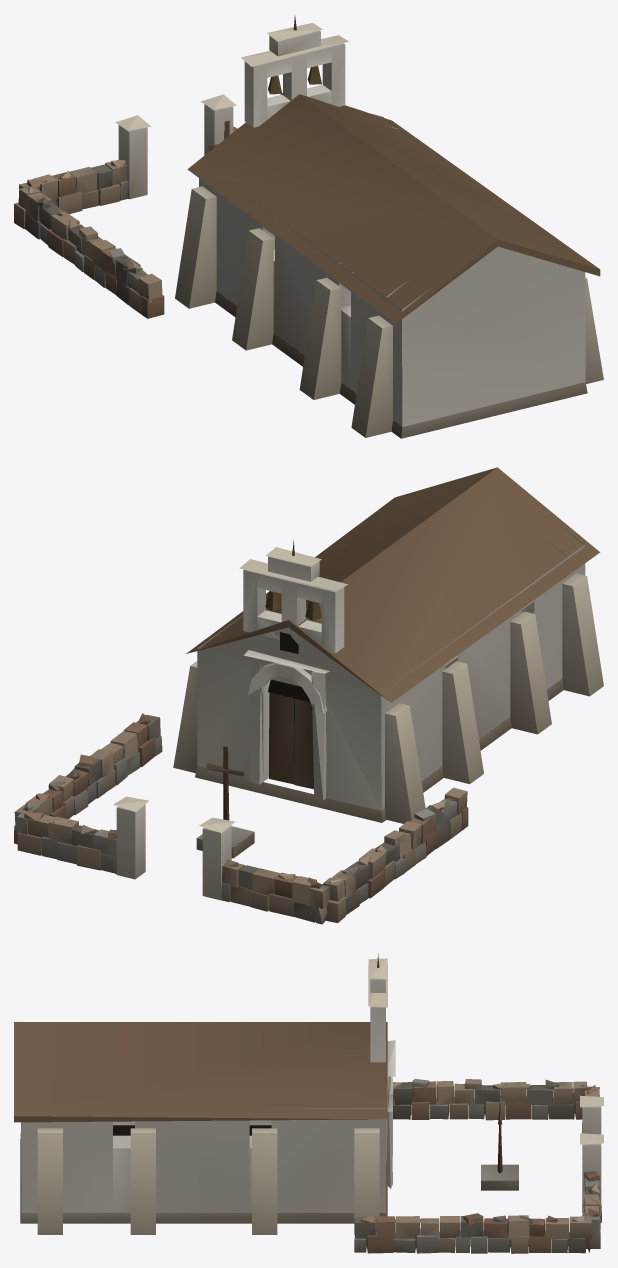
The model's file is casa_capilla_b_lod.glb.
3 renders of one model, top to bottom at view 1: azimuth 30°, elevation 25°; view 2: azimuth 150°, elevation 25°; view 3: azimuth 270°, elevation 25°, orthographic. The views are drawn at different scales.
Visible parts, largest first — view 1: casa_capilla_b; view 2: casa_capilla_b; view 3: casa_capilla_b.
Boxes of the visible parts, bbox=[...] form: casa_capilla_b: bbox=[14, 15, 603, 438]; casa_capilla_b: bbox=[14, 467, 603, 924]; casa_capilla_b: bbox=[14, 953, 603, 1253].
Bounding box in the file's own units: 10.64 × 8 × 18.63.
